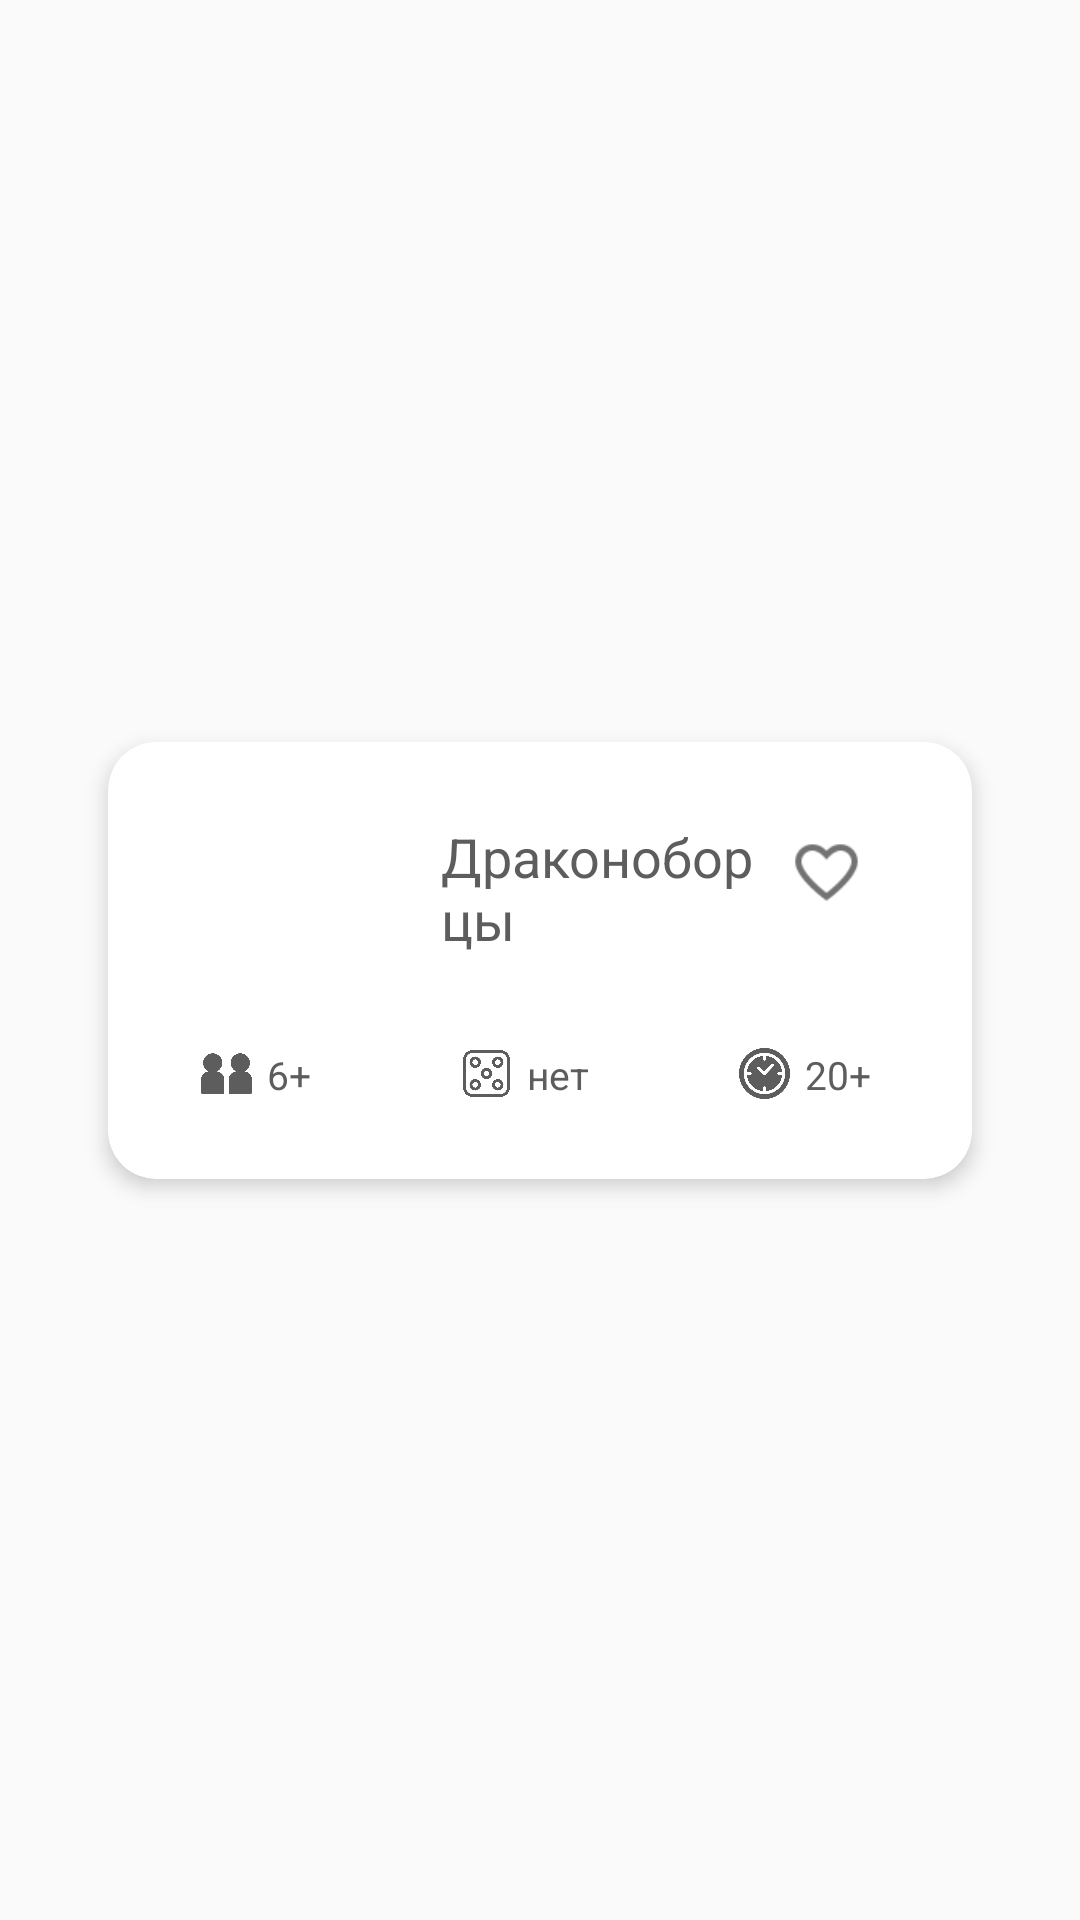

Icons on this 1080×1920 Android screen, each with the point to tap as (x,y):
cube: (486,1073)
like: (826,872)
people: (226,1073)
time: (764,1073)
